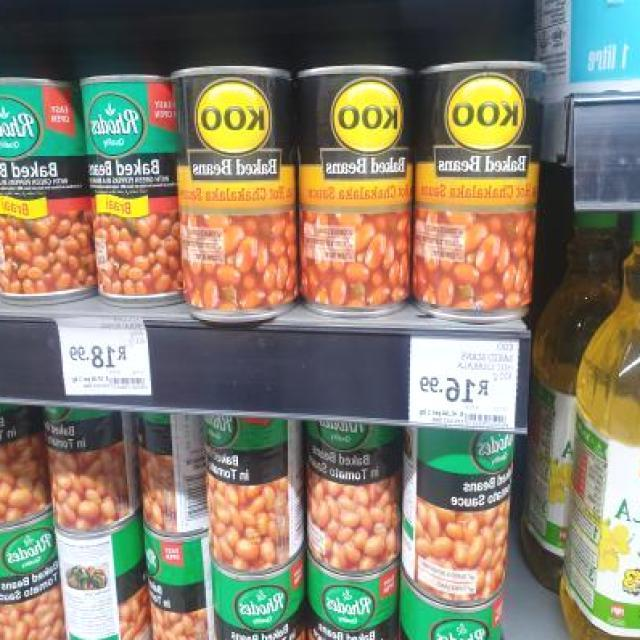Beans: (418, 66, 548, 160), (294, 75, 410, 160), (171, 76, 287, 160), (79, 85, 167, 164), (0, 82, 79, 167), (210, 571, 304, 640), (309, 575, 398, 640), (424, 430, 516, 488), (198, 412, 288, 462), (404, 604, 509, 640), (0, 521, 58, 582)
